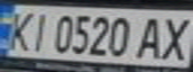0: (106, 12, 136, 59), (48, 11, 75, 55)
2: (87, 11, 115, 57)
5: (69, 11, 93, 56)
A: (133, 14, 172, 61)
I: (24, 9, 54, 53)
K: (0, 7, 39, 52)
X: (154, 12, 193, 62)
